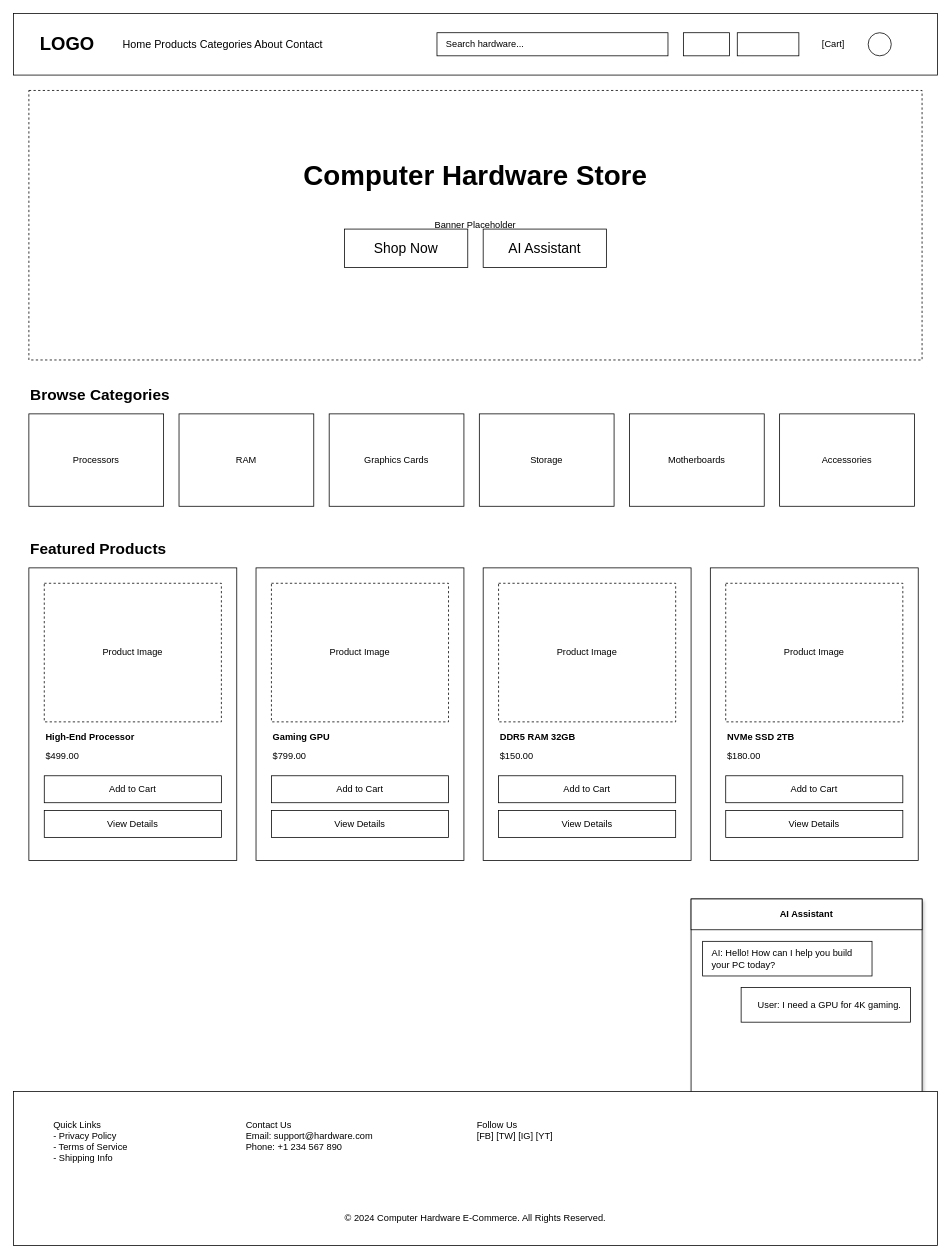
This 951x1259 diagram has some shape labels left out. Here are the shapes that lost their labels. From the top down, the centre of each, then its label:
[706,44]: Login
[768,44]: Register
[879,44]: [User]
